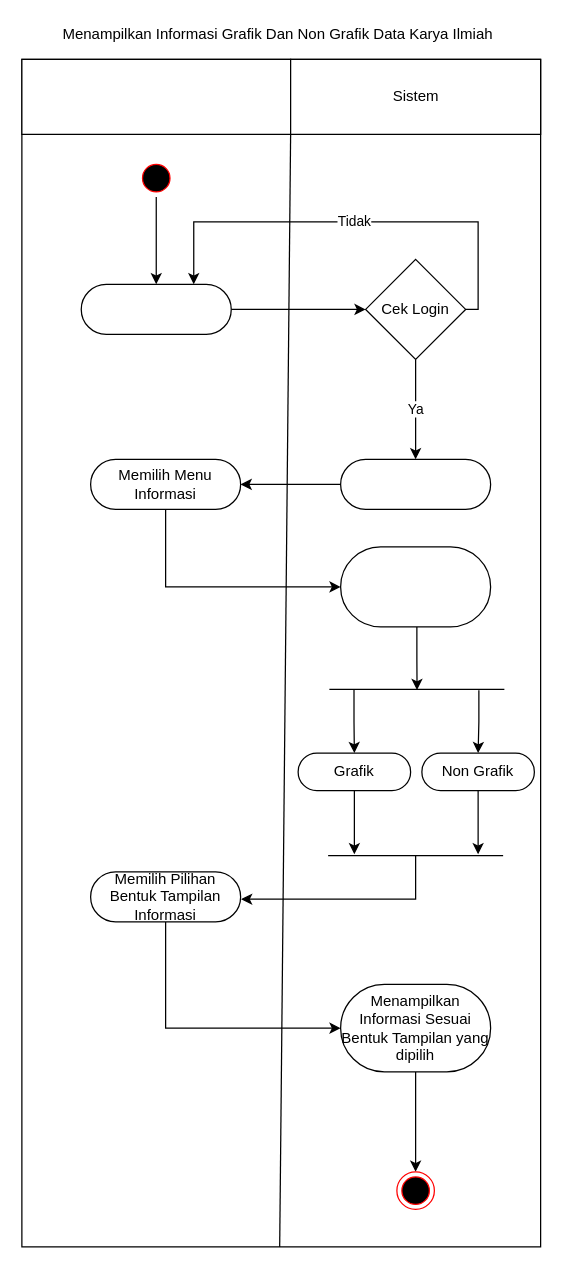
This 563x1270 diagram has some shape labels left out. Each missing label, with the centre of its shape:
Login: [155,308]
Menampilkan Halaman Utama: [415,483]
Menampilkan Pilihan Bentuk Tampilan Informasi: [415,586]
Program Studi: [156,96]
